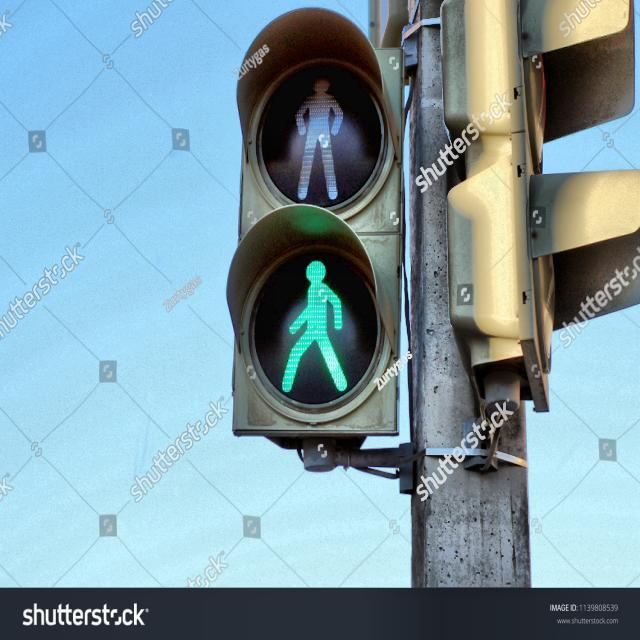green_light: (280, 258, 351, 394)
